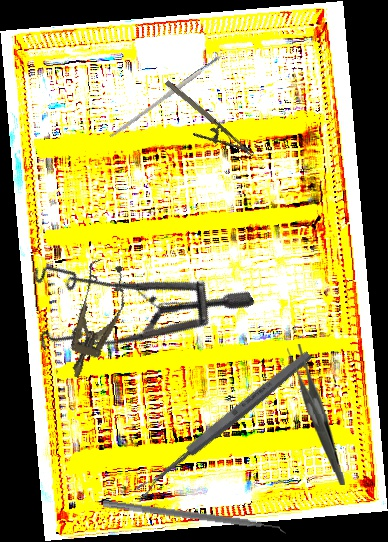Dressing Forceps: (287, 343, 345, 486)
Needle Holder: (152, 77, 255, 174)
Scalpel Handle: (108, 54, 223, 140)
Spatula Surgical: (101, 499, 288, 539)
Speculum: (6, 181, 256, 407), (53, 256, 136, 385)
Surgical Spoon: (135, 348, 314, 498)
